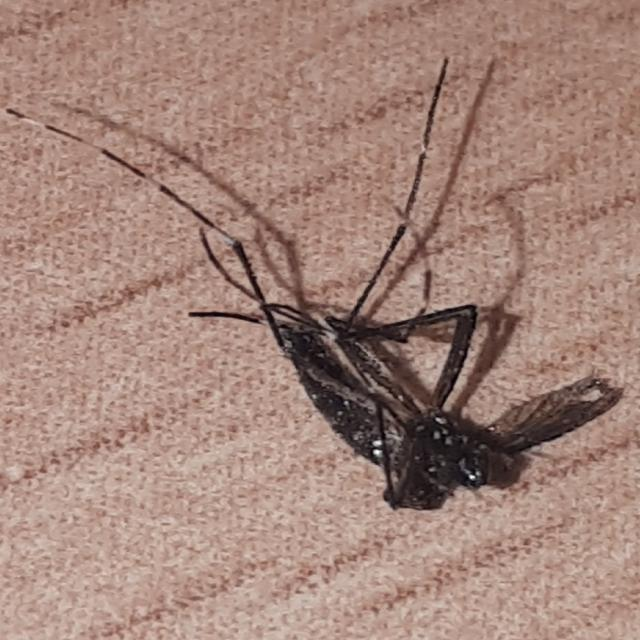albopictus: (123, 48, 610, 526)
